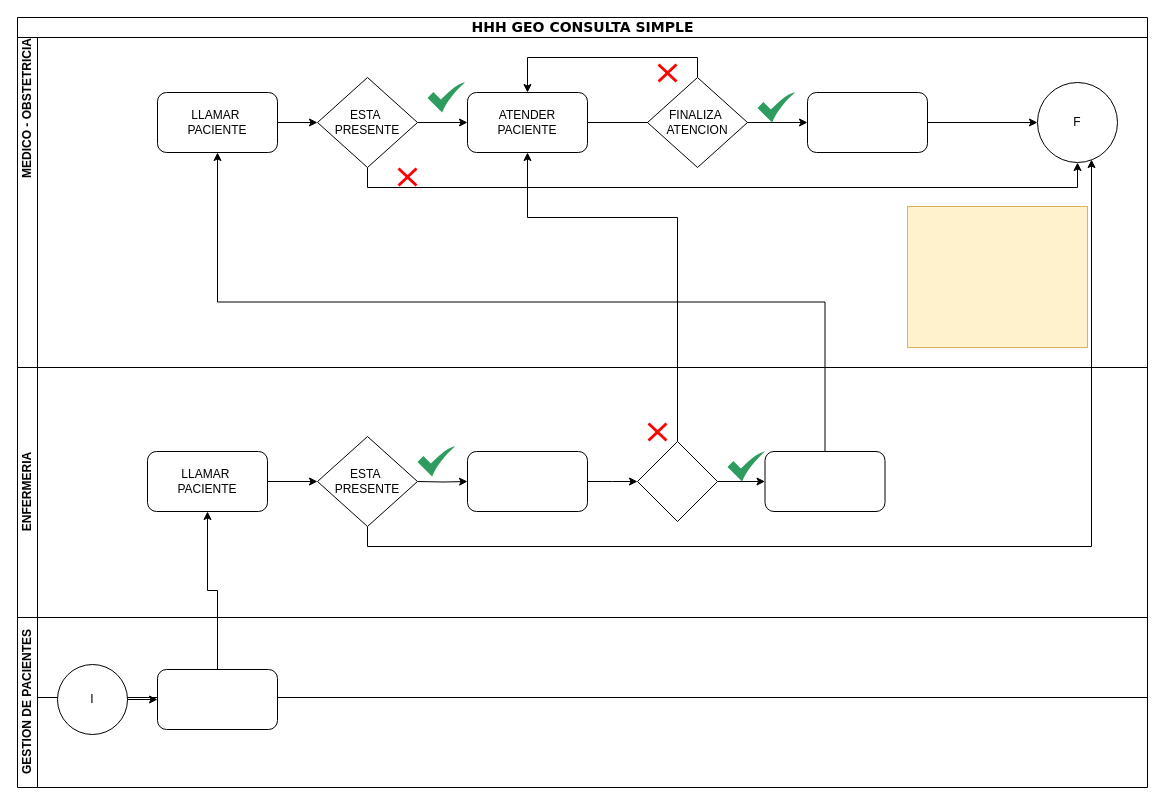
This 1165x805 diagram has some shape labels left out. Each missing label, with the centre of its shape:
DAR ALTA PACIENTE: (x=867, y=122)
ESPERAR ATENCION MEDICA: (x=824, y=481)
PASILLO EXT: (x=677, y=481)
Posibles Tipos Altas Fuga, Alta Voluntaria, Defunción Derivación, Alta Médica: (x=997, y=277)
REALIZAR TRIAJE: (x=527, y=481)
RECEPCIONAR PACIENTES: (x=217, y=699)
